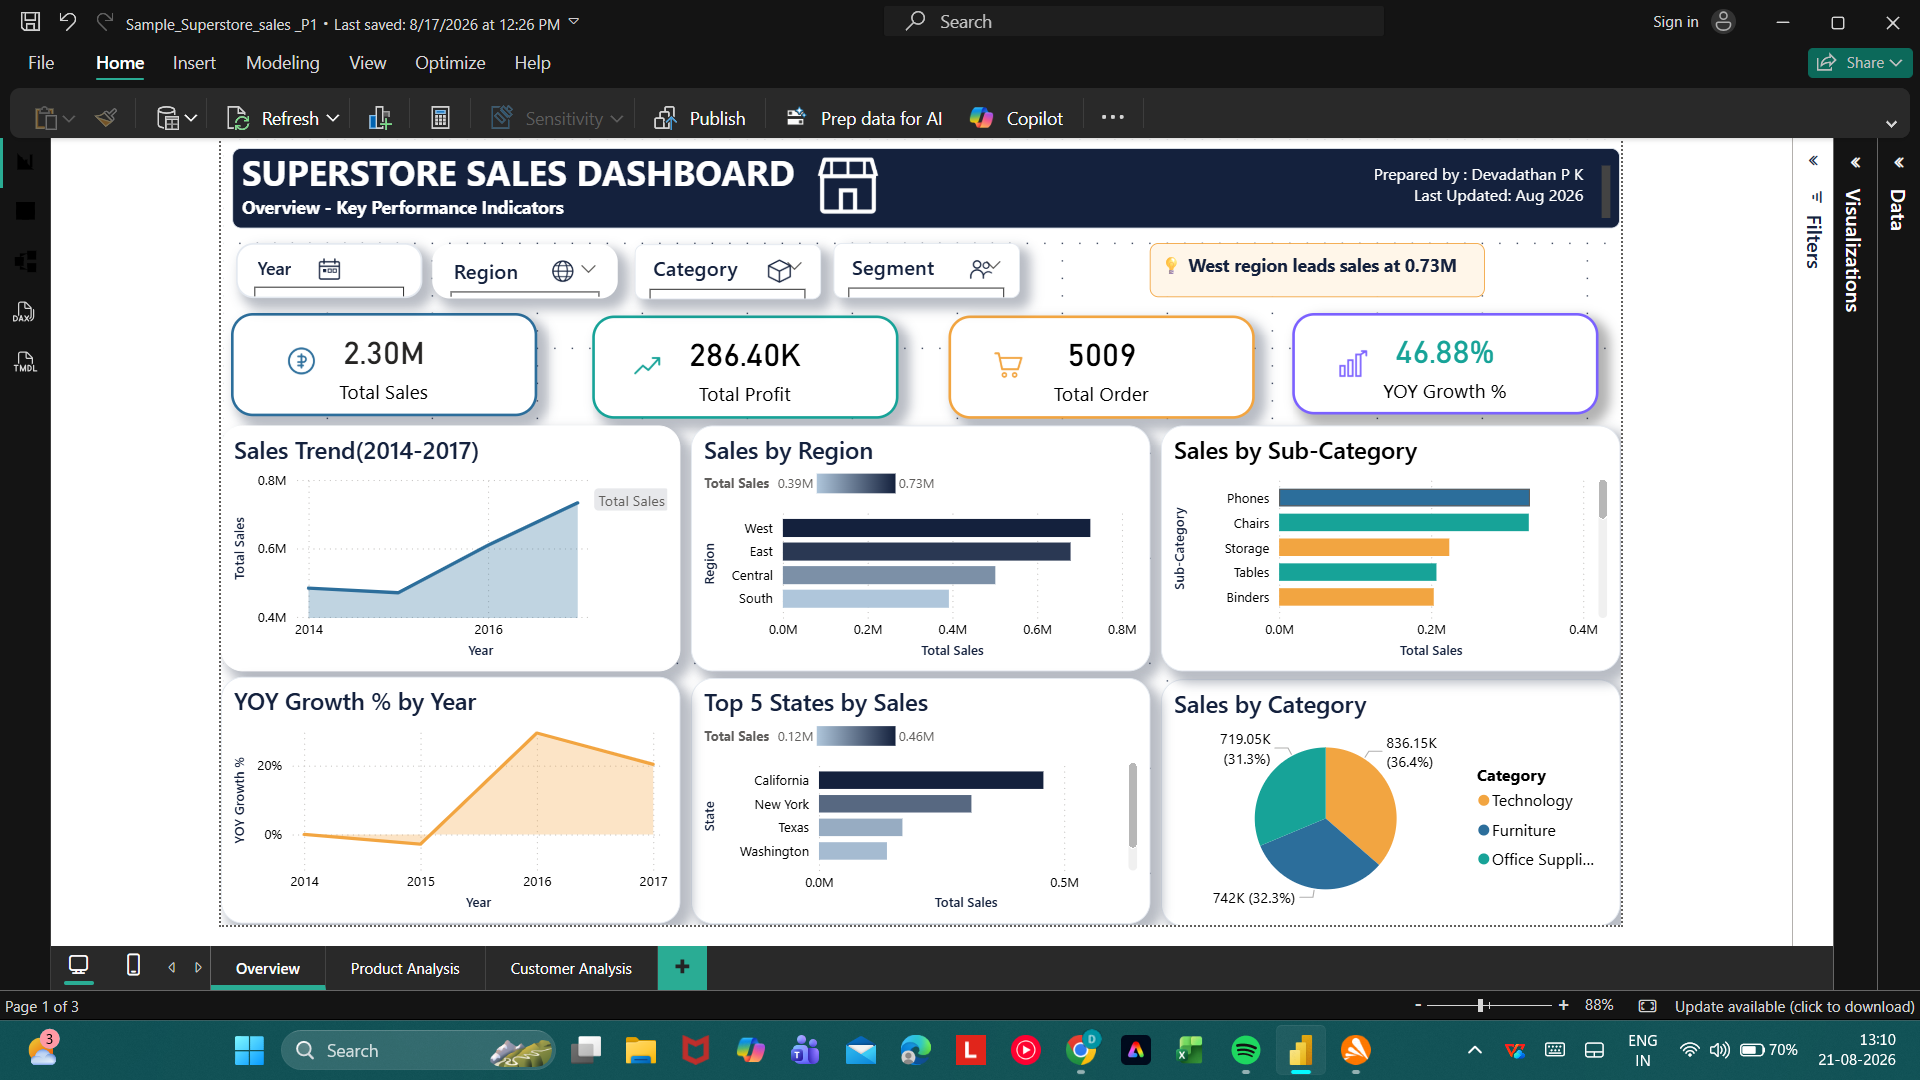

The dashboard page shown, as its layout file describes it:
{"tool":"powerbi","page":{"name":"Overview","canvas":[1280,720],"ordinal":0},"visuals":[{"type":"card","fields":{"Values":["Sample - Superstore new.Total Sales"]},"box":[9.5,160,280,94],"z":0},{"type":"card","fields":{"Values":["Sample - Superstore new.Total Profit"]},"box":[338.9,161.9,280,94],"z":1000},{"type":"card","fields":{"Values":["Sample - Superstore new.Total Order"]},"box":[665.5,161.9,280,94],"z":2000},{"type":"card","fields":{"Values":["Sample - Superstore new.YOY Growth %"]},"box":[979.8,160.5,280,93],"z":3000},{"type":"lineChart","title":"Sales Trend(2014-2017)","fields":{"Y":["Sample - Superstore new.Total Sales"],"Category":["DateTable.Year"]},"box":[0,262.5,420,225],"z":4000},{"type":"clusteredBarChart","title":"Sales by Region","fields":{"Category":["Sample - Superstore new.Region"],"Y":["Sample - Superstore new.Total Sales"]},"box":[429.2,262.5,420,225],"z":5000},{"type":"pieChart","title":"Sales by Category","fields":{"Category":["Sample - Superstore new.Category"],"Y":["Sample - Superstore new.Total Sales"]},"box":[859,495,420.2,225.7],"z":6000},{"type":"clusteredBarChart","title":"Sales by Sub-Category","fields":{"Category":["Sample - Superstore new.Sub-Category"],"Y":["Sample - Superstore new.Total Sales"]},"box":[859.6,262.5,420,225],"z":7000},{"type":"slicer","fields":{"Values":["DateTable.Year"]},"box":[13.7,96,170,50],"z":8000},{"type":"slicer","fields":{"Values":["Sample - Superstore new.Region"]},"box":[193.2,97.2,169.6,49.9],"z":9000},{"type":"slicer","fields":{"Values":["Sample - Superstore new.Category"]},"box":[377.8,97.2,170,50],"z":10000},{"type":"slicer","fields":{"Values":["Sample - Superstore new.Segment"]},"box":[559.8,96,170,50],"z":11000},{"type":"clusteredBarChart","title":"Top 5 States by Sales","fields":{"Category":["Sample - Superstore new.State"],"Y":["Sample - Superstore new.Total Sales"]},"box":[429.2,493.9,420,225],"z":12000},{"type":"lineChart","fields":{"Y":["Sample - Superstore new.YOY Growth %"],"Category":["DateTable.Year"]},"box":[0,492.5,420.2,225.7],"z":13000},{"type":"textbox","box":[10,8.7,1269.2,73.6],"z":14000},{"type":"image","box":[57.4,187,32.4,32.4],"z":15000},{"type":"image","box":[374,193.2,32.4,32],"z":16000},{"type":"image","box":[704.4,190.8,32.4,32.4],"z":17000},{"type":"image","box":[1018.6,190.8,32.4,32.4],"z":18000},{"type":"image","box":[48.6,107.2,99.7,26.2],"z":19000},{"type":"image","box":[261.8,108.5,101,26.2],"z":20000},{"type":"image","box":[460.1,108.5,99.7,26.2],"z":21000},{"type":"image","box":[644.6,107.2,99.7,26.2],"z":22000},{"type":"image","box":[527.4,8.7,92.3,68.6],"z":23000},{"type":"textbox","box":[849,96,306.7,49.9],"z":24000},{"type":"textbox","box":[849,17.5,401.5,59.8],"z":25000}]}

Visuals, with their boxes on the page's 1280x720 design canvas (x1, y1, x2, y2). These are canvas units, not pixel positions in the 1920x1080 screenshot, which may show the page scaled, cropped or inside an application window:
card - Sample - Superstore new.Total Sales: {"left": 10, "top": 160, "right": 290, "bottom": 254}
card - Sample - Superstore new.Total Profit: {"left": 339, "top": 162, "right": 619, "bottom": 256}
card - Sample - Superstore new.Total Order: {"left": 666, "top": 162, "right": 946, "bottom": 256}
card - Sample - Superstore new.YOY Growth %: {"left": 980, "top": 160, "right": 1260, "bottom": 254}
"Sales Trend(2014-2017)" lineChart: {"left": 0, "top": 262, "right": 420, "bottom": 488}
"Sales by Region" clusteredBarChart: {"left": 429, "top": 262, "right": 849, "bottom": 488}
"Sales by Category" pieChart: {"left": 859, "top": 495, "right": 1279, "bottom": 721}
"Sales by Sub-Category" clusteredBarChart: {"left": 860, "top": 262, "right": 1280, "bottom": 488}
slicer - DateTable.Year: {"left": 14, "top": 96, "right": 184, "bottom": 146}
slicer - Sample - Superstore new.Region: {"left": 193, "top": 97, "right": 363, "bottom": 147}
slicer - Sample - Superstore new.Category: {"left": 378, "top": 97, "right": 548, "bottom": 147}
slicer - Sample - Superstore new.Segment: {"left": 560, "top": 96, "right": 730, "bottom": 146}
"Top 5 States by Sales" clusteredBarChart: {"left": 429, "top": 494, "right": 849, "bottom": 719}
lineChart - Sample - Superstore new.YOY Growth % x DateTable.Year: {"left": 0, "top": 492, "right": 420, "bottom": 718}
textbox: {"left": 10, "top": 9, "right": 1279, "bottom": 82}
image: {"left": 57, "top": 187, "right": 90, "bottom": 219}
image: {"left": 374, "top": 193, "right": 406, "bottom": 225}
image: {"left": 704, "top": 191, "right": 737, "bottom": 223}
image: {"left": 1019, "top": 191, "right": 1051, "bottom": 223}
image: {"left": 49, "top": 107, "right": 148, "bottom": 133}
image: {"left": 262, "top": 108, "right": 363, "bottom": 135}
image: {"left": 460, "top": 108, "right": 560, "bottom": 135}
image: {"left": 645, "top": 107, "right": 744, "bottom": 133}
image: {"left": 527, "top": 9, "right": 620, "bottom": 77}
textbox: {"left": 849, "top": 96, "right": 1156, "bottom": 146}
textbox: {"left": 849, "top": 18, "right": 1250, "bottom": 77}
